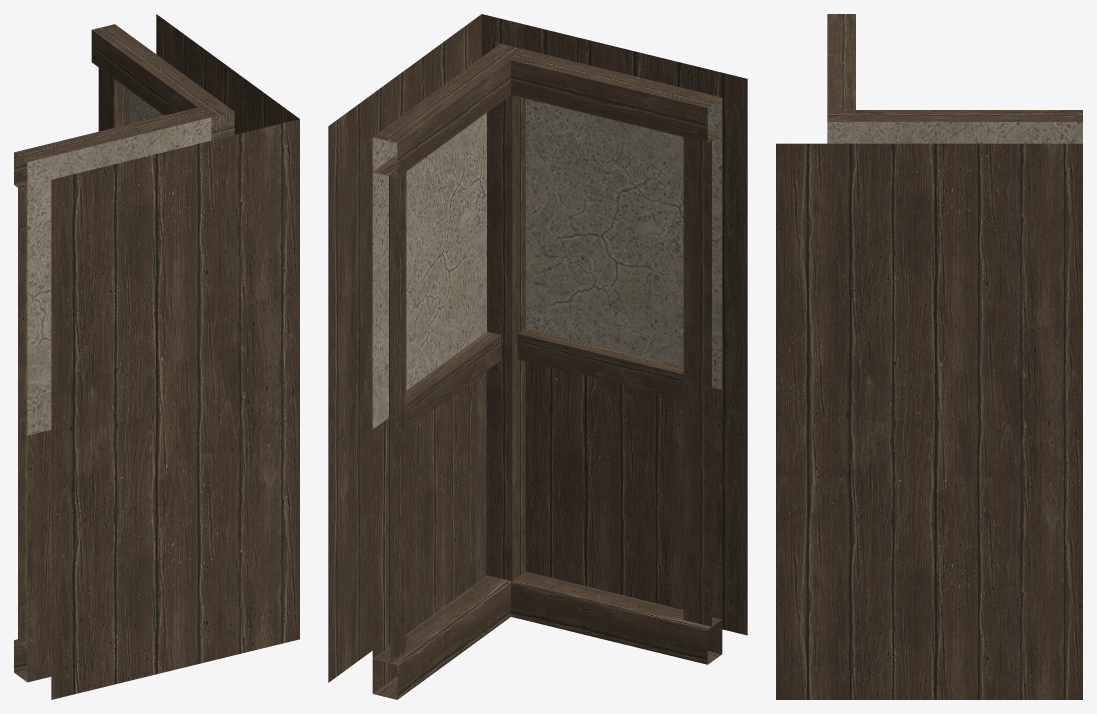
Rendered from ARC1010277.fbx.
3 renders of one model, left to right at view 1: azimuth 30°, elevation 25°; view 2: azimuth 150°, elevation 25°; view 3: azimuth 270°, elevation 25°, orthographic. The views are drawn at different scales.
Parts seen in each view (by area): view 1: smARC1010277; view 2: smARC1010277; view 3: smARC1010277.
Boxes of the visible parts, <box> form: smARC1010277: <box>14,14,299,699</box>; smARC1010277: <box>328,14,747,699</box>; smARC1010277: <box>776,14,1082,699</box>.
Size of the model in its own units: 134 by 268 by 134.
Materials: 1 (1 with a texture image).
